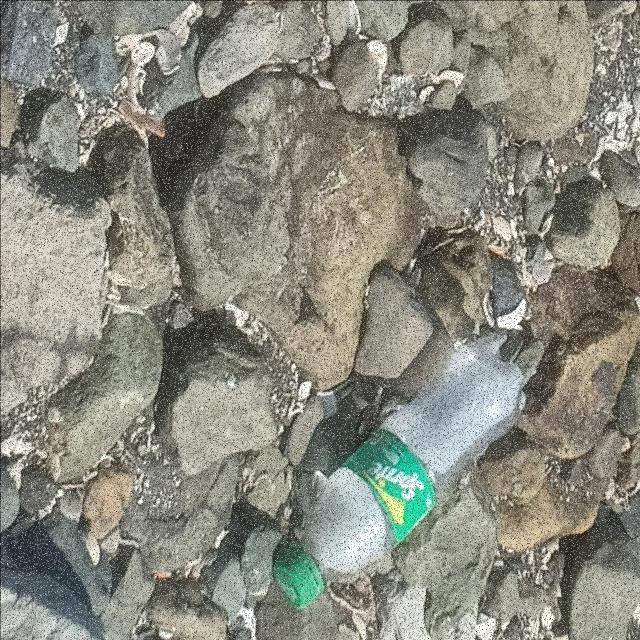plastic_waste: (272, 336, 529, 613)
